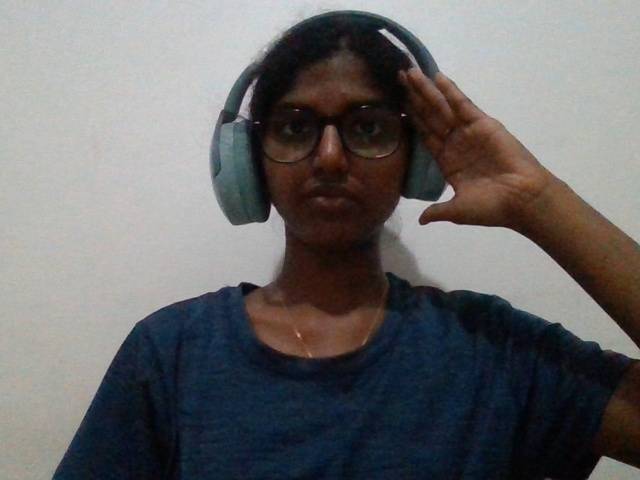Hello: (373, 48, 619, 302)
